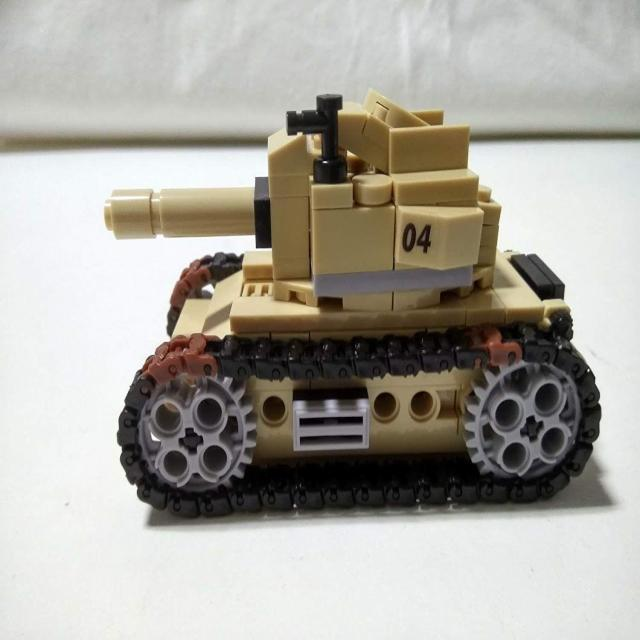MIL_MBT: (72, 51, 609, 523)
